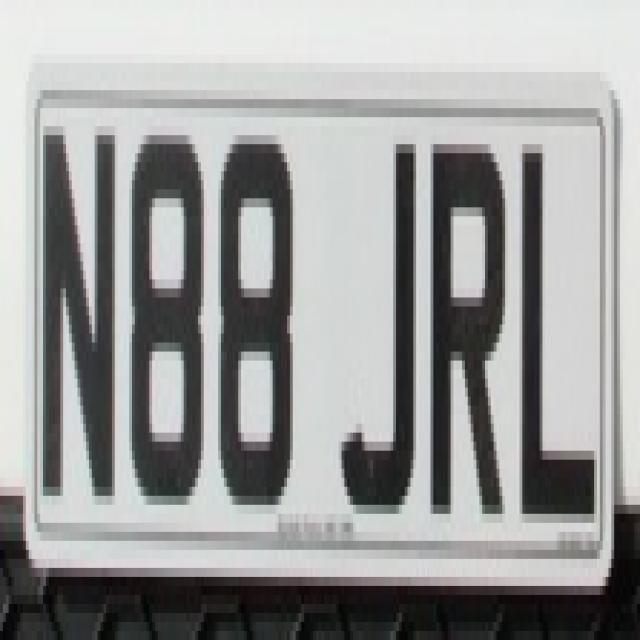licenseplate: (13, 9, 618, 597)
